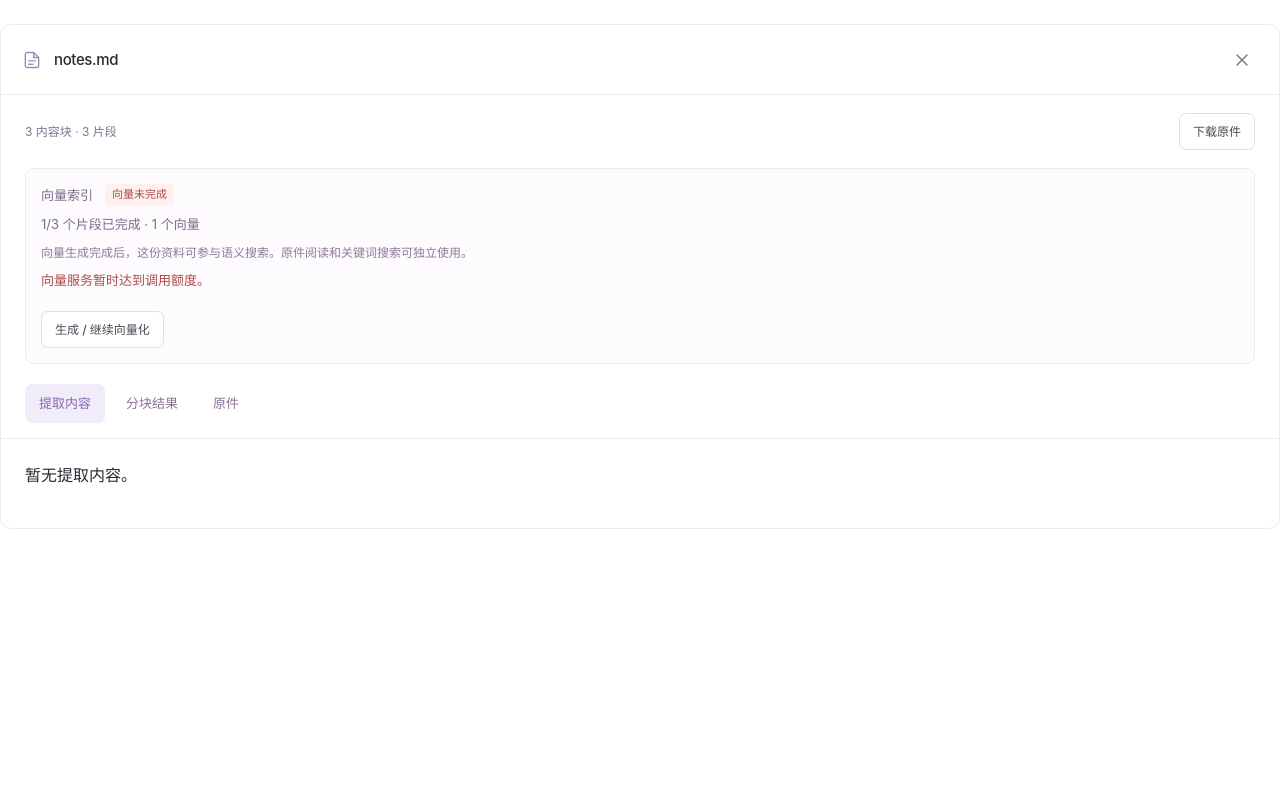
retains an embedding request error while the reader refreshes saved status
Click the button "生成 / 继续向量化": click(102, 329) [41,311,164,348]
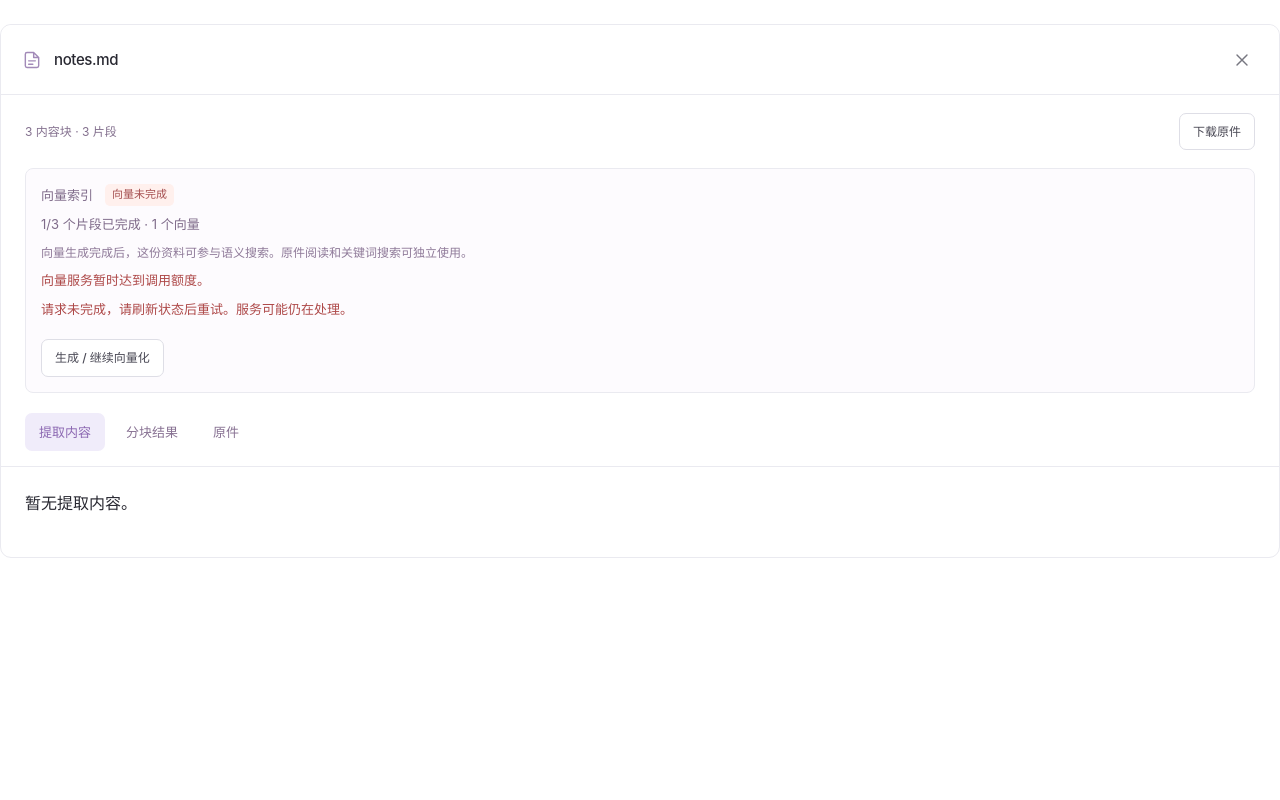
Expected: the message "请求未完成，请刷新状态后重试。服务可能仍在处理。" is shown, [41,301,353,317]
